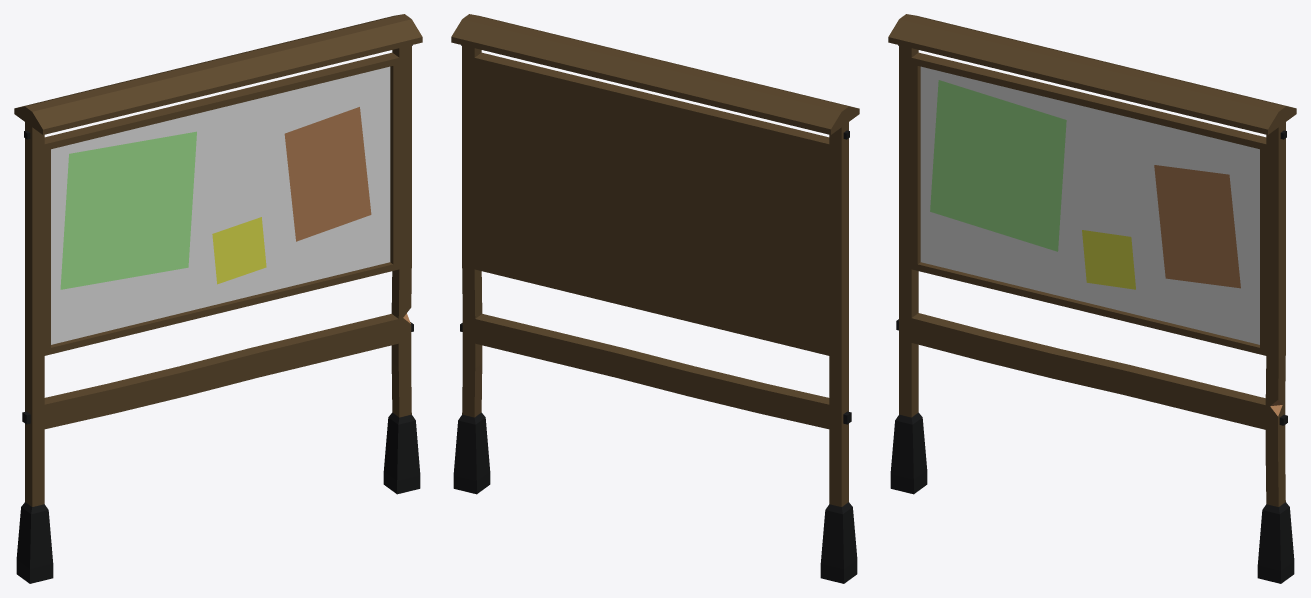
Rendered from bulletinboard.fbx.
3 renders of one model, left to right at view 1: azimuth 30°, elevation 25°; view 2: azimuth 150°, elevation 25°; view 3: azimuth 330°, elevation 25°, orthographic.
Visible parts, largest first — view 1: Cube; view 2: Cube; view 3: Cube.
Boxes of the visible parts, x1,y1,x2,y2 form: Cube: [14, 14, 422, 583]; Cube: [451, 14, 859, 583]; Cube: [888, 14, 1296, 583].
Size of the model in its own units: 117 by 135 by 14.94.
